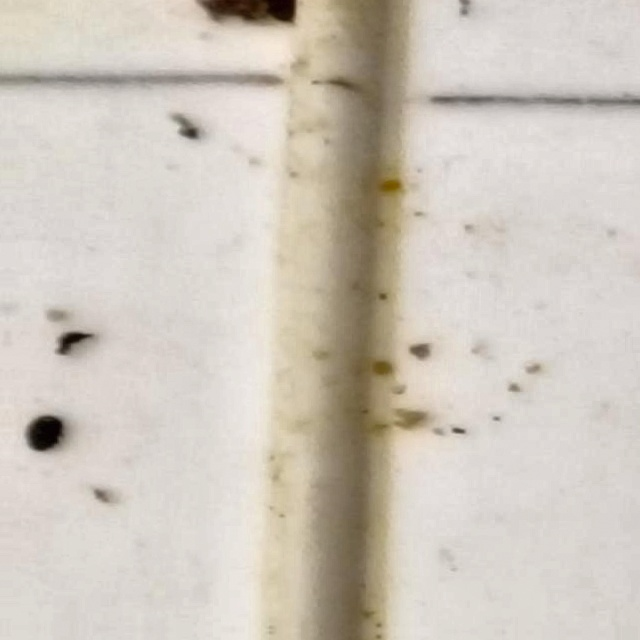varroa: (22, 415, 63, 453)
